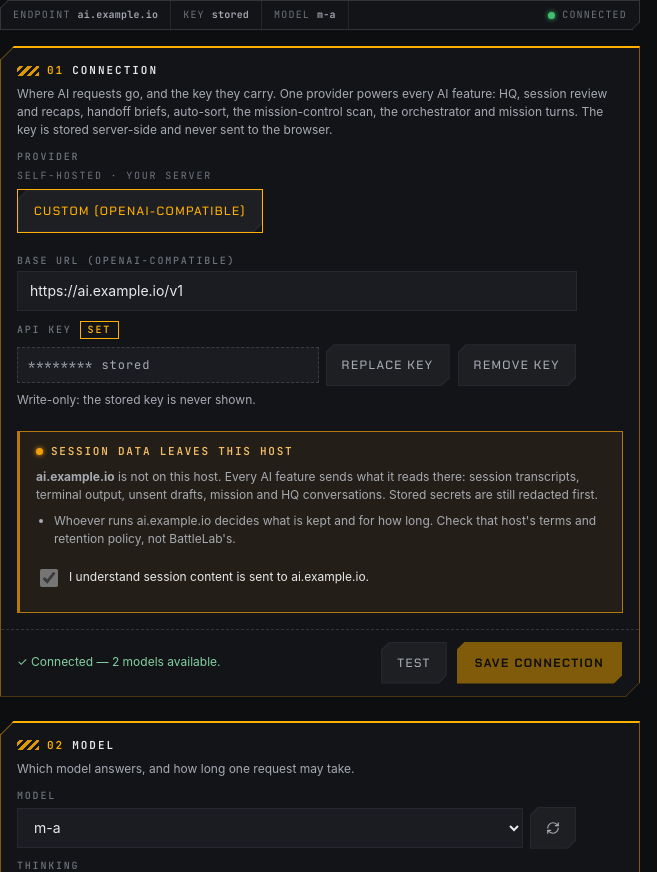
Test case: moving to another host asks for that host's key before Test or Save, and Test sends it
Type "https://other.example.org/v1" into the field labelled "Base URL (OpenAI-compatible)" at [297, 291], box [17, 271, 577, 311]
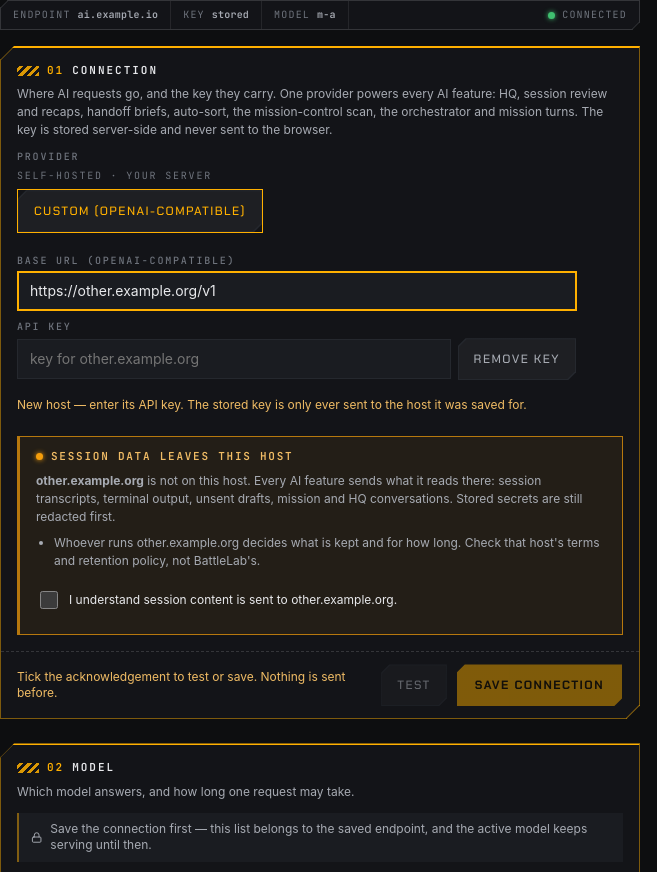
expect the button "Save connection" is disabled: met, box [456, 663, 623, 707]
expect the button "Test" is disabled: met, box [380, 663, 448, 707]
expect the text "New host — enter its API key" is shown: met, box [17, 397, 527, 412]
Click the checkbox labelled "I understand session content is sent to other.example.org." at [49, 600], box [40, 591, 58, 609]
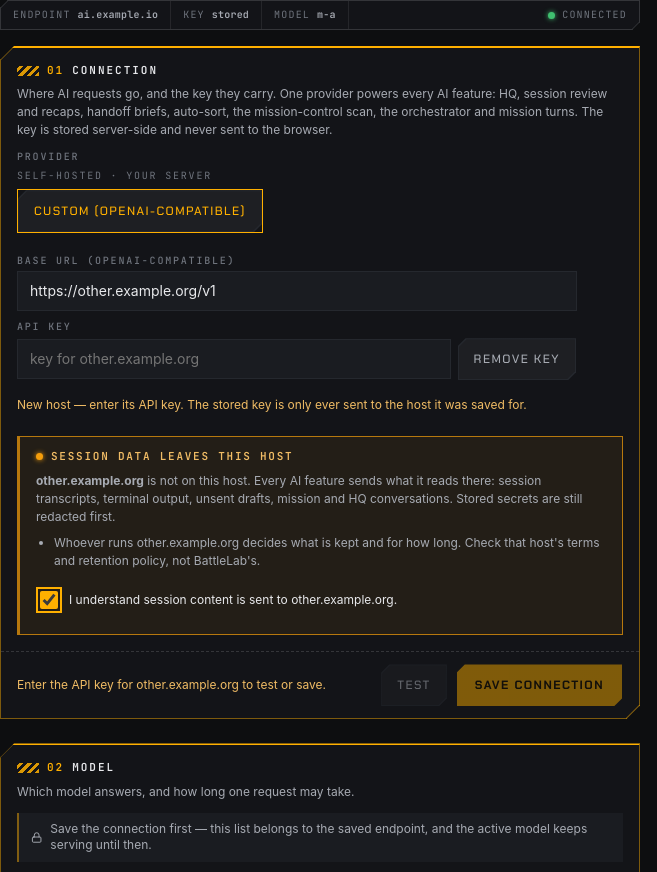
Type "sk-other" into the password field labelled "API key" at [234, 359], box [17, 339, 450, 379]
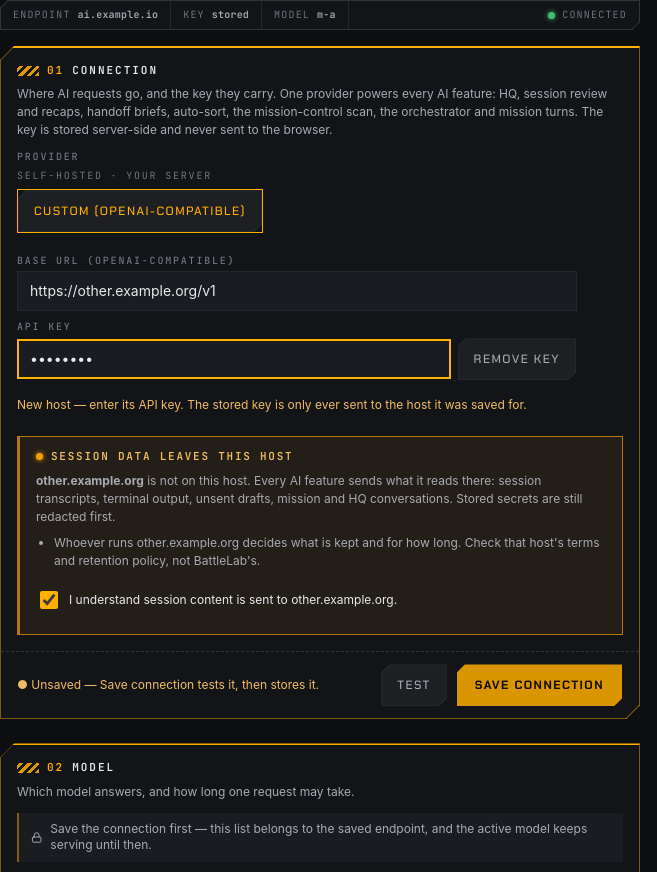
Click the button "Test" at [414, 685], box [380, 663, 448, 707]
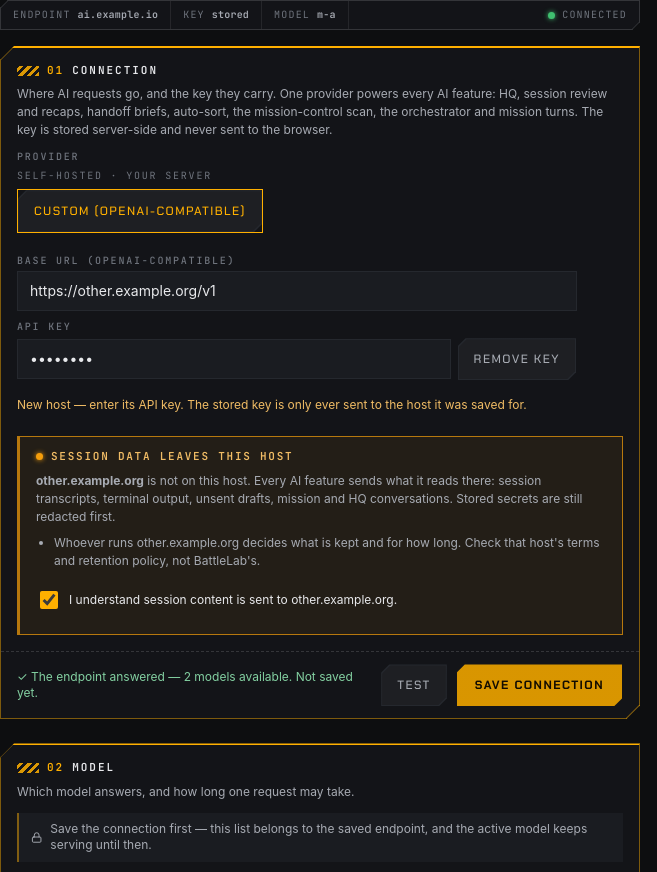
expect the text "✓ The endpoint answered — 2 models available. Not saved yet." is shown: met, box [17, 669, 370, 702]
